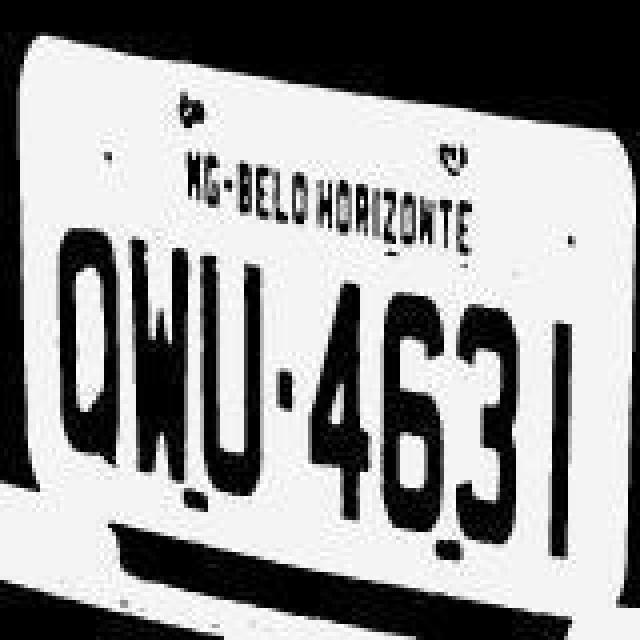1: (532, 308, 588, 564)
3: (454, 284, 530, 548)
4: (304, 260, 376, 540)
6: (380, 274, 460, 542)
Q: (36, 210, 124, 478)
U: (200, 234, 280, 510)
W: (128, 224, 200, 496)
